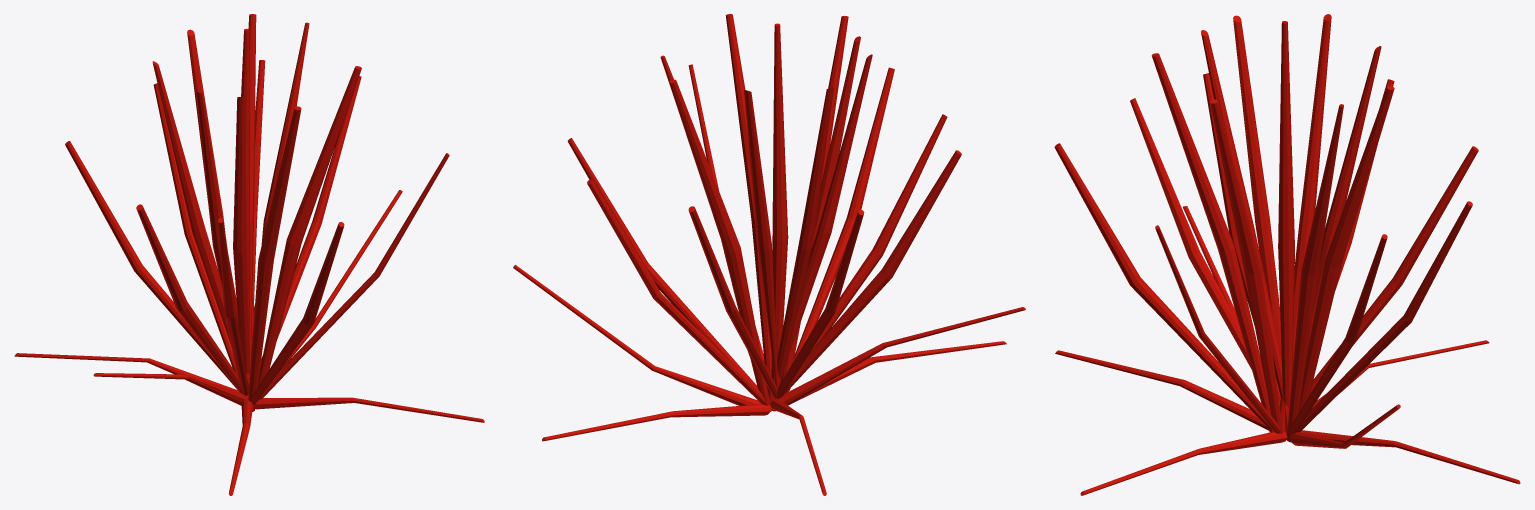
Rendered from p1-orange.obj.
3 views of the same model, side by side, from view 1: azimuth 30°, elevation 25°; view 2: azimuth 150°, elevation 25°; view 3: azimuth 270°, elevation 25° (orthographic). The views are drawn at different scales.
Parts seen in each view (by area): view 1: p1-orange_Cylinder.034; view 2: p1-orange_Cylinder.034; view 3: p1-orange_Cylinder.034.
Part boxes in pixels (<box>): p1-orange_Cylinder.034: <box>14,14,484,495</box>; p1-orange_Cylinder.034: <box>513,14,1025,495</box>; p1-orange_Cylinder.034: <box>1054,14,1520,495</box>.
Bounding box in the file's own units: 2.02 × 1.8 × 1.83.
